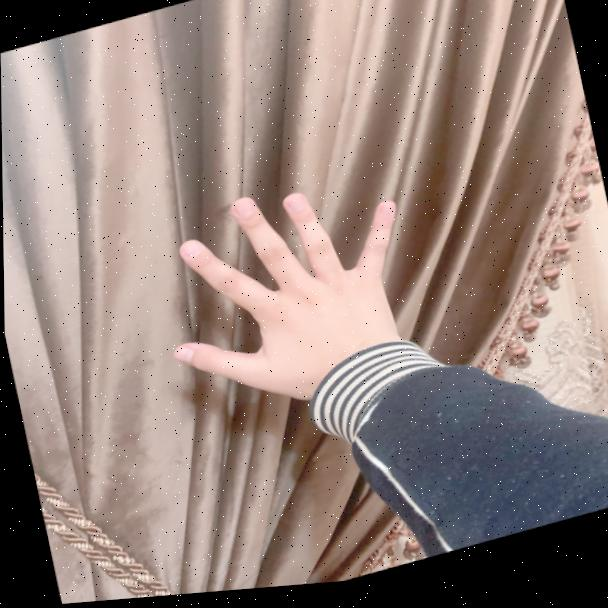five: (130, 154, 437, 447)
